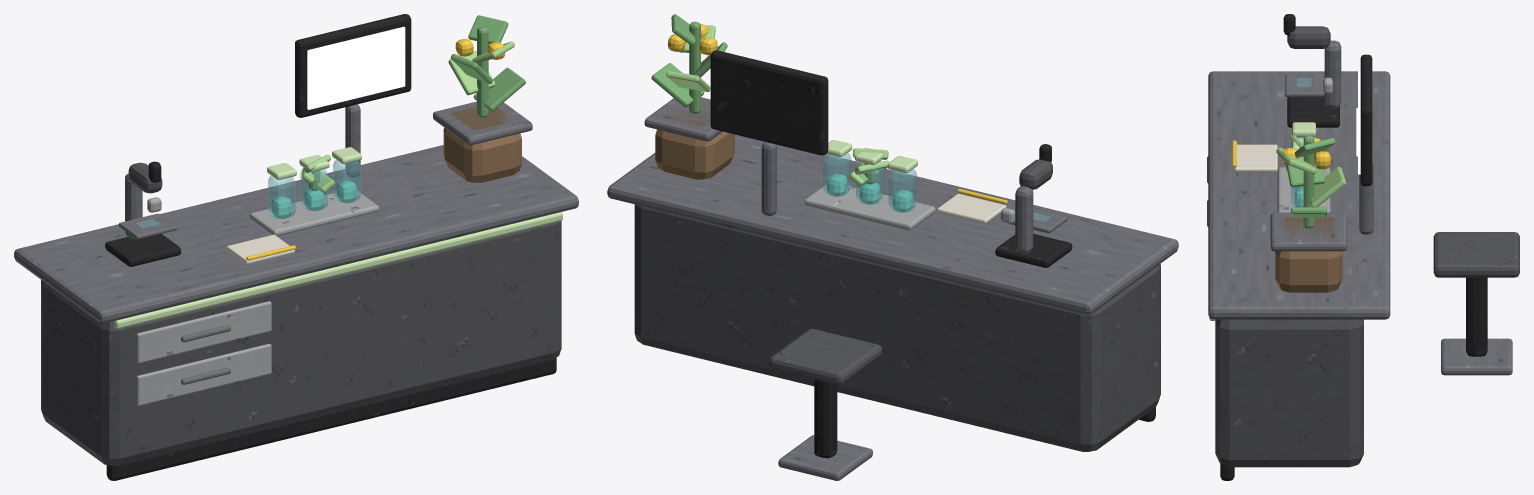
Rendered from decor_bot_research_desk.glb.
3 views of the same model, side by side, from view 1: azimuth 30°, elevation 25°; view 2: azimuth 150°, elevation 25°; view 3: azimuth 270°, elevation 25° (orthographic). The views are drawn at different scales.
Visible parts, largest first — view 1: DEC_BotResearchDesk__Body, DEC_BotResearchDesk__Top, DEC_BotResearchDesk__Kick, DEC_BotResearchDesk__Screen_Glow, DEC_BotResearchDesk__Front_Band, DEC_BotResearchDesk__Drawer_Upper, DEC_BotResearchDesk__Drawer_Lower, DEC_BotResearchDesk__Screen_Bezel, DEC_BotResearchDesk__Pot_Body, DEC_BotResearchDesk__Flight_Tray, DEC_BotResearchDesk__Pot_Rim, DEC_BotResearchDesk__Scope_Base (+12 smaller); view 2: DEC_BotResearchDesk__Body, DEC_BotResearchDesk__Top, DEC_BotResearchDesk__Screen_Bezel, DEC_BotResearchDesk__Stool_Seat, DEC_BotResearchDesk__Pot_Body, DEC_BotResearchDesk__Flight_Tray, DEC_BotResearchDesk__Stool_Foot, DEC_BotResearchDesk__Pot_Rim, DEC_BotResearchDesk__Stool_Post, DEC_BotResearchDesk__Scope_Base, DEC_BotResearchDesk__Notebook, DEC_BotResearchDesk__Scope_Arm (+8 smaller); view 3: DEC_BotResearchDesk__Top, DEC_BotResearchDesk__Body, DEC_BotResearchDesk__Stool_Seat, DEC_BotResearchDesk__Pot_Body, DEC_BotResearchDesk__Pot_Rim, DEC_BotResearchDesk__Stool_Foot, DEC_BotResearchDesk__Stool_Post, DEC_BotResearchDesk__Screen_Bezel, DEC_BotResearchDesk__Scope_Base, DEC_BotResearchDesk__Notebook, DEC_BotResearchDesk__Scope_Arm, DEC_BotResearchDesk__Scope_Stage (+11 smaller).
Boxes of the visible parts, <box> form: DEC_BotResearchDesk__Body: <box>41,221,561,465</box>; DEC_BotResearchDesk__Top: <box>14,145,578,323</box>; DEC_BotResearchDesk__Kick: <box>106,357,556,480</box>; DEC_BotResearchDesk__Screen_Glow: <box>307,26,405,109</box>; DEC_BotResearchDesk__Front_Band: <box>114,212,562,328</box>; DEC_BotResearchDesk__Drawer_Upper: <box>136,301,271,363</box>; DEC_BotResearchDesk__Drawer_Lower: <box>136,343,271,405</box>; DEC_BotResearchDesk__Screen_Bezel: <box>295,14,411,117</box>; DEC_BotResearchDesk__Pot_Body: <box>443,127,521,182</box>; DEC_BotResearchDesk__Flight_Tray: <box>249,191,379,236</box>; DEC_BotResearchDesk__Pot_Rim: <box>433,101,532,145</box>; DEC_BotResearchDesk__Scope_Base: <box>105,234,181,266</box>; DEC_BotResearchDesk__Body: <box>634,204,1160,451</box>; DEC_BotResearchDesk__Top: <box>607,134,1178,314</box>; DEC_BotResearchDesk__Screen_Bezel: <box>710,50,828,155</box>; DEC_BotResearchDesk__Stool_Seat: <box>769,328,881,385</box>; DEC_BotResearchDesk__Pot_Body: <box>655,129,734,179</box>; DEC_BotResearchDesk__Flight_Tray: <box>804,184,935,230</box>; DEC_BotResearchDesk__Stool_Foot: <box>778,435,872,480</box>; DEC_BotResearchDesk__Pot_Rim: <box>644,97,722,141</box>; DEC_BotResearchDesk__Stool_Post: <box>814,379,837,458</box>; DEC_BotResearchDesk__Scope_Base: <box>995,233,1072,267</box>; DEC_BotResearchDesk__Notebook: <box>937,193,1006,223</box>; DEC_BotResearchDesk__Scope_Arm: <box>1015,186,1033,253</box>; DEC_BotResearchDesk__Top: <box>1208,71,1390,319</box>; DEC_BotResearchDesk__Body: <box>1215,319,1363,467</box>; DEC_BotResearchDesk__Stool_Seat: <box>1433,232,1519,277</box>; DEC_BotResearchDesk__Pot_Body: <box>1275,251,1342,292</box>; DEC_BotResearchDesk__Pot_Rim: <box>1270,212,1347,251</box>; DEC_BotResearchDesk__Stool_Foot: <box>1441,338,1512,375</box>; DEC_BotResearchDesk__Stool_Post: <box>1466,277,1487,356</box>; DEC_BotResearchDesk__Screen_Bezel: <box>1360,54,1372,186</box>; DEC_BotResearchDesk__Scope_Base: <box>1287,95,1339,127</box>; DEC_BotResearchDesk__Notebook: <box>1234,144,1277,171</box>; DEC_BotResearchDesk__Scope_Arm: <box>1324,40,1341,108</box>; DEC_BotResearchDesk__Scope_Stage: <box>1285,74,1323,97</box>.
Size of what is drawn, in the model's own units: 2.36 by 1.54 by 1.3.
15 materials, 4 textured.
